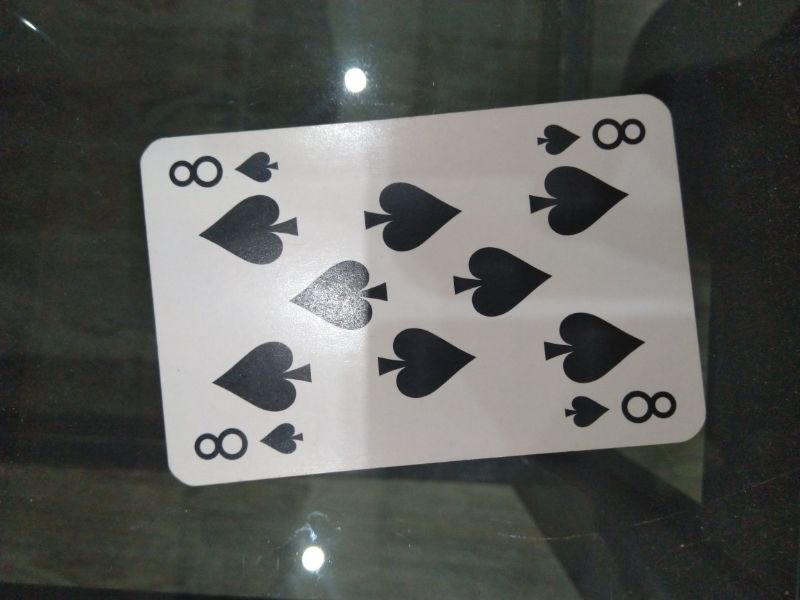8s: (561, 384, 683, 436), (190, 417, 310, 464), (166, 147, 283, 195), (533, 112, 651, 159)
